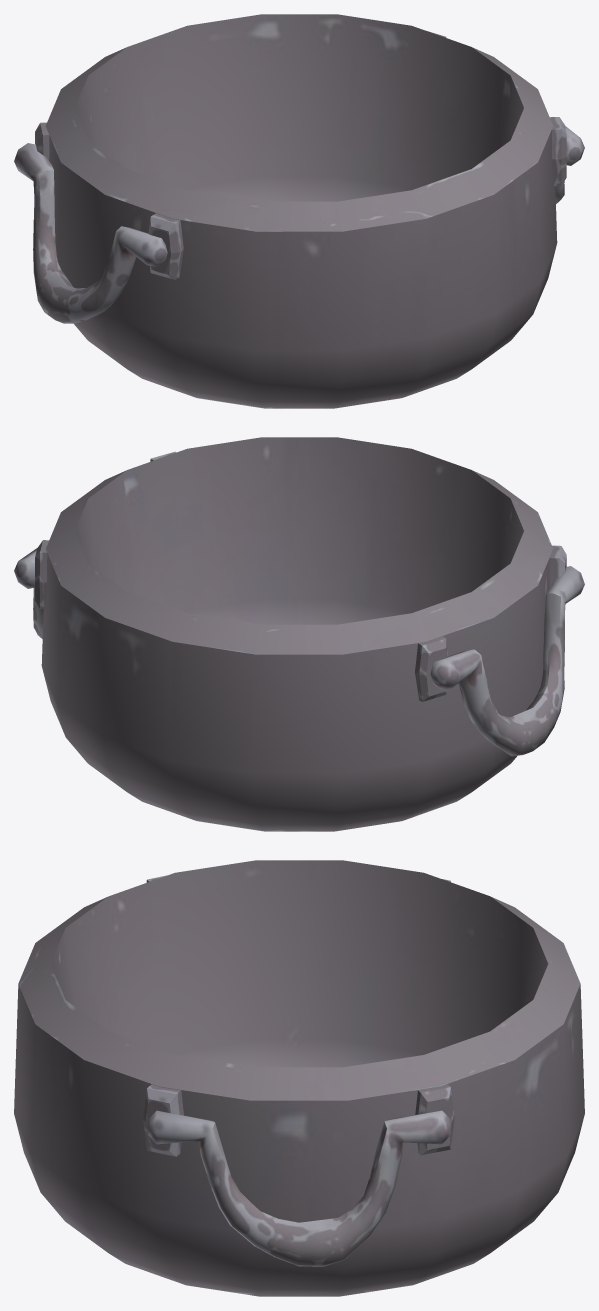
Rendered from Pot_1.gltf.
3 views of the same model, one above another, from view 1: azimuth 30°, elevation 25°; view 2: azimuth 150°, elevation 25°; view 3: azimuth 270°, elevation 25° (orthographic). The views are drawn at different scales.
Parts seen in each view (by area): view 1: Pot_1; view 2: Pot_1; view 3: Pot_1.
Boxes of the visible parts, left/top/right/bottom form: Pot_1: left=14, top=14, right=584, bottom=408; Pot_1: left=14, top=437, right=584, bottom=831; Pot_1: left=14, top=860, right=584, bottom=1296.
Bounding box in the file's own units: 0.5393 × 0.2238 × 0.486.
1 material, 1 textured.
